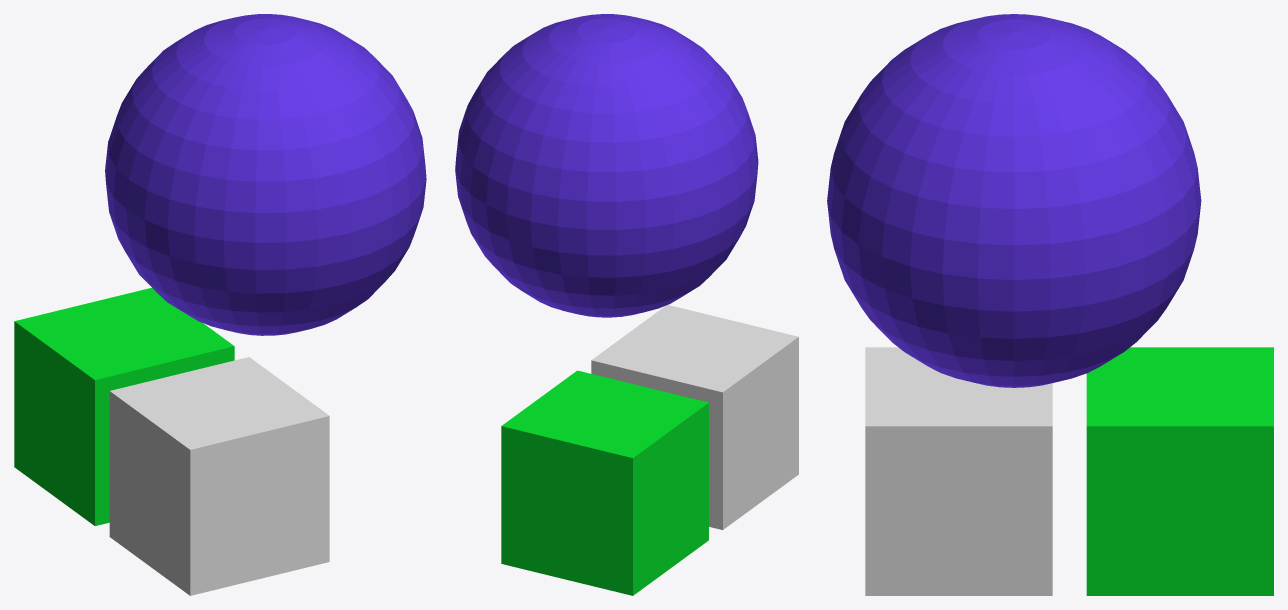
Rendered from asset.glb.
3 renders of one model, left to right at view 1: azimuth 30°, elevation 25°; view 2: azimuth 150°, elevation 25°; view 3: azimuth 270°, elevation 25°, orthographic. The views are drawn at different scales.
Visible parts, largest first — view 1: Sphere, Cube, Cube.001; view 2: Sphere, Cube.001, Cube; view 3: Sphere, Cube.001, Cube.
Boxes of the visible parts, x1=… form: Sphere: x1=105, y1=14, x2=426, y2=335; Cube: x1=109, y1=357, x2=329, y2=595; Cube.001: x1=14, y1=287, x2=234, y2=525; Sphere: x1=455, y1=14, x2=758, y2=317; Cube.001: x1=501, y1=370, x2=708, y2=595; Cube: x1=591, y1=305, x2=798, y2=529; Sphere: x1=827, y1=14, x2=1201, y2=387; Cube.001: x1=1086, y1=347, x2=1273, y2=595; Cube: x1=865, y1=347, x2=1052, y2=595.
Size of the model in its own units: 370 by 617 by 442.
